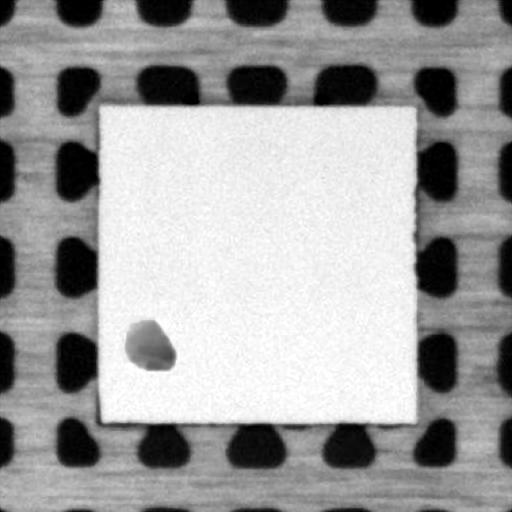DIE_INK: (115, 308, 182, 380)
